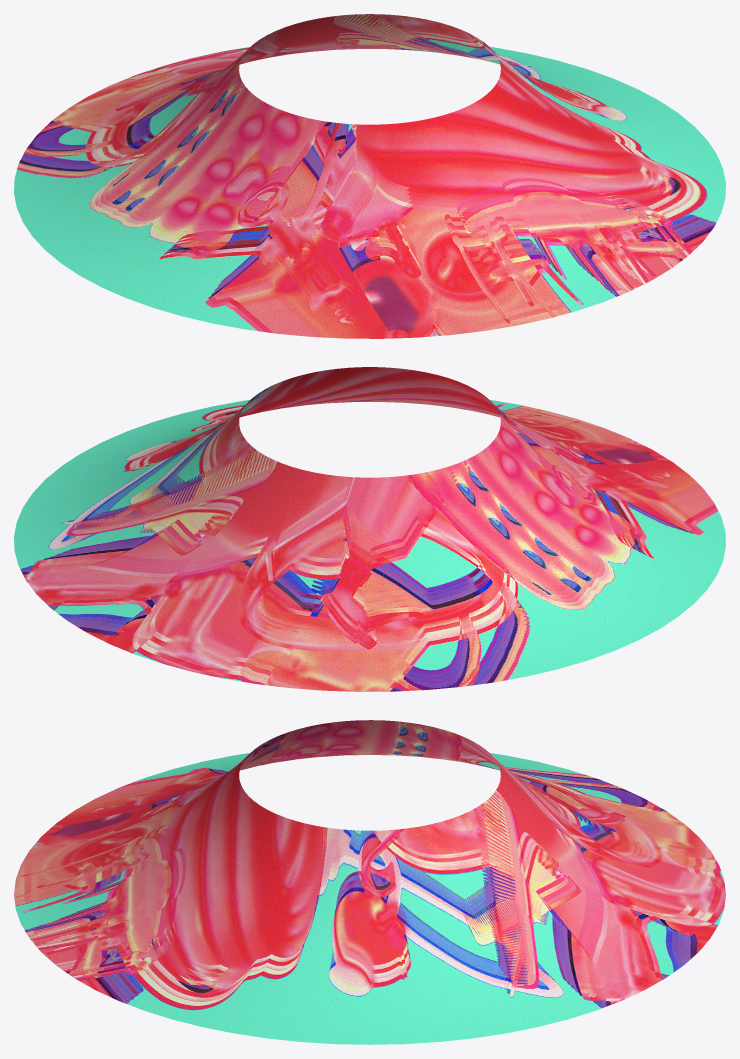
File: fuji.obj
3 views of the same model, one above another, from view 1: azimuth 30°, elevation 25°; view 2: azimuth 150°, elevation 25°; view 3: azimuth 270°, elevation 25° (orthographic).
Parts seen in each view (by area): view 1: NurbsCurve_CUNurbsCurve; view 2: NurbsCurve_CUNurbsCurve; view 3: NurbsCurve_CUNurbsCurve.
Part boxes in pixels (x1=…): NurbsCurve_CUNurbsCurve: x1=14, y1=14, x2=725, y2=338; NurbsCurve_CUNurbsCurve: x1=14, y1=367, x2=725, y2=691; NurbsCurve_CUNurbsCurve: x1=14, y1=720, x2=725, y2=1044.
Bounding box in the file's own units: 14.15 × 2.61 × 14.15.
